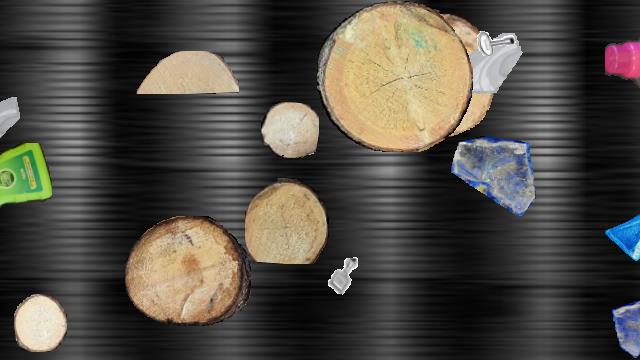glass: (451, 136, 535, 220), (451, 33, 527, 109), (604, 201, 640, 261), (611, 297, 640, 359), (0, 96, 22, 158)
metal: (466, 1, 520, 55), (318, 250, 370, 302)
plastic: (0, 143, 52, 219), (605, 18, 640, 126)
wood: (317, 1, 473, 151), (377, 14, 495, 138), (125, 216, 251, 326), (245, 178, 329, 264), (136, 51, 238, 93), (261, 102, 319, 158), (14, 294, 66, 352)
